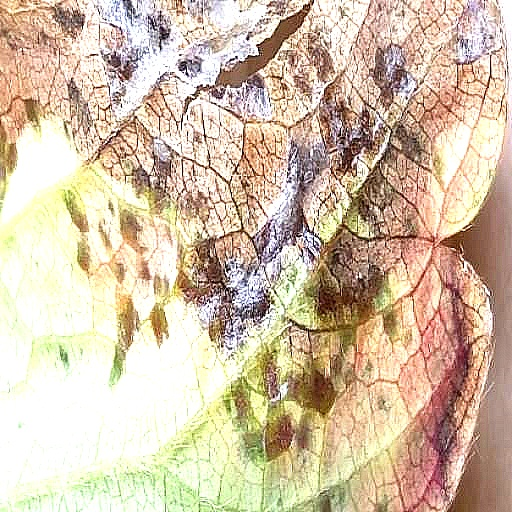Angular Leafspot: (0, 0, 509, 511)
